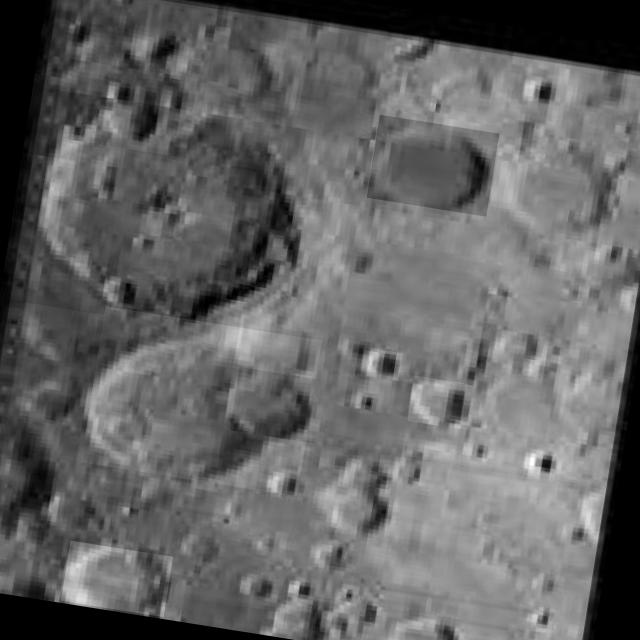crater: (23, 90, 314, 343), (81, 306, 322, 497), (366, 115, 499, 217), (61, 540, 173, 618), (230, 367, 324, 444), (407, 376, 468, 430), (367, 348, 403, 381)
